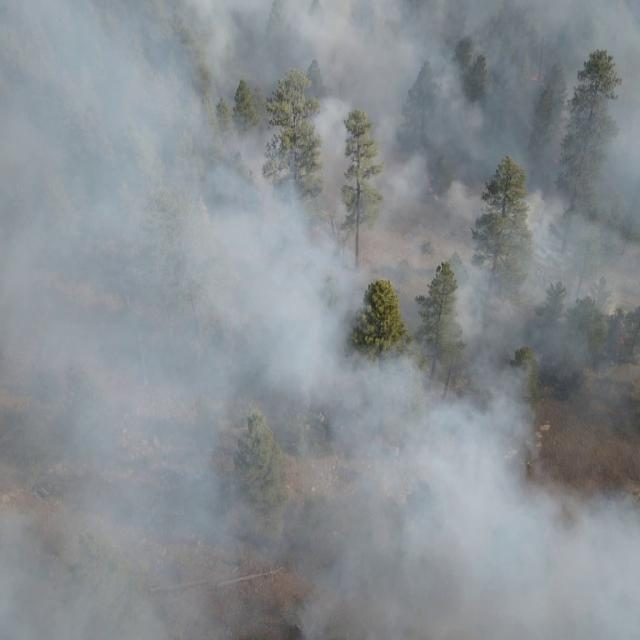fire: (616, 330, 632, 346)
smoke: (0, 0, 352, 640), (353, 345, 640, 640), (404, 0, 640, 345), (351, 0, 404, 282), (392, 282, 406, 321), (353, 282, 365, 322)
